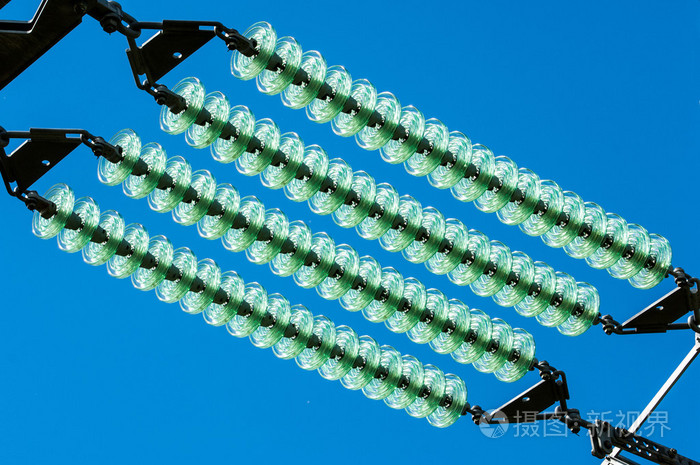insulator: (229, 18, 673, 290), (162, 76, 603, 337), (95, 127, 535, 381), (33, 184, 470, 429)
